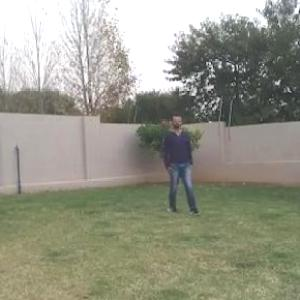follow: (167, 114, 192, 210)
